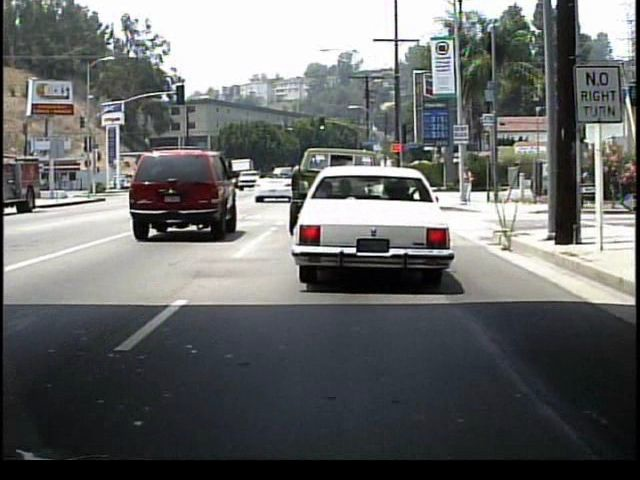person: (464, 167, 476, 202)
